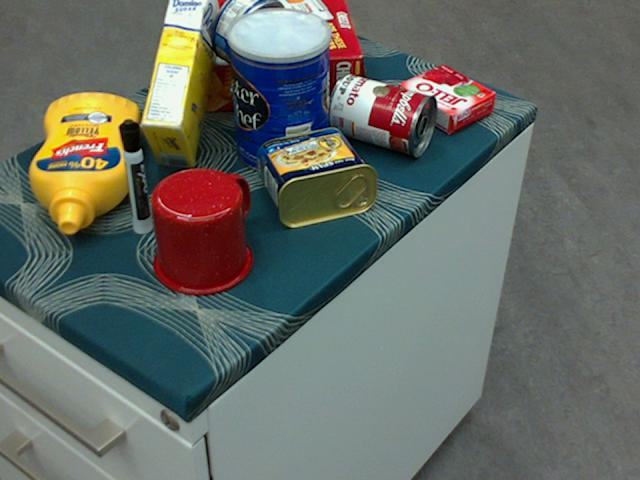cracker_box: (170, 0, 361, 114)
gelatin_box: (396, 65, 495, 132)
large_marker: (116, 119, 152, 232)
master_chef_can: (227, 7, 331, 175)
mug: (150, 166, 253, 294)
mustard_bottle: (28, 93, 139, 233)
potted_meat_can: (255, 124, 377, 228)
sugar_box: (141, 0, 222, 168)
tomato_soup_can: (327, 73, 438, 156)
tuna_fish_can: (210, 0, 287, 70)
